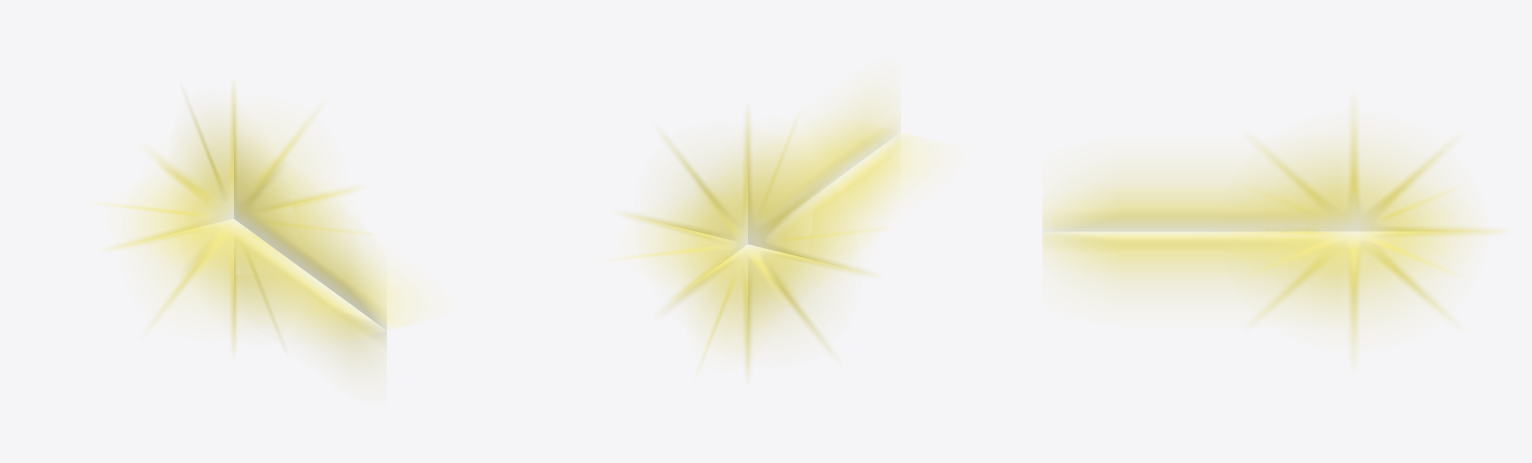
The model's file is fx_beam_t2.glb.
3 renders of one model, left to right at view 1: azimuth 30°, elevation 25°; view 2: azimuth 150°, elevation 25°; view 3: azimuth 270°, elevation 25°, orthographic.
Visible parts, largest first — view 1: fx_beam_star, fx_beam; view 2: fx_beam_star, fx_beam; view 3: fx_beam, fx_beam_star.
Part boxes in pixels (x1=…): fx_beam_star: x1=102, y1=85, x2=364, y2=351; fx_beam: x1=182, y1=158, x2=418, y2=370; fx_beam_star: x1=616, y1=111, x2=879, y2=377; fx_beam: x1=753, y1=92, x2=932, y2=256; fx_beam: x1=1042, y1=164, x2=1353, y2=298; fx_beam_star: x1=1220, y1=105, x2=1503, y2=357.
Size of the model in its own units: 1.05 by 1.05 by 1.52.
Materials: 2 (2 with a texture image).
